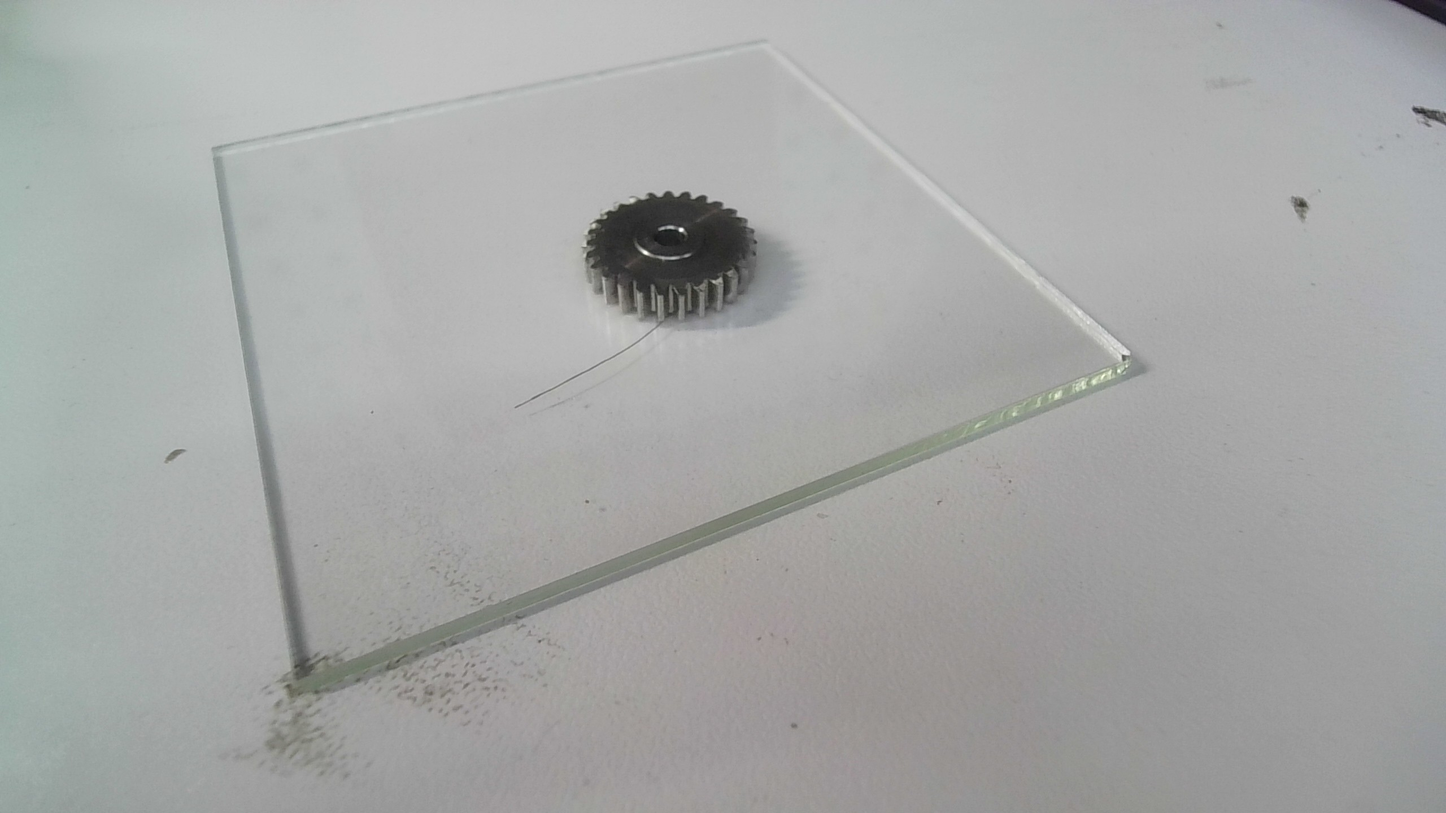gear: (577, 189, 760, 322)
